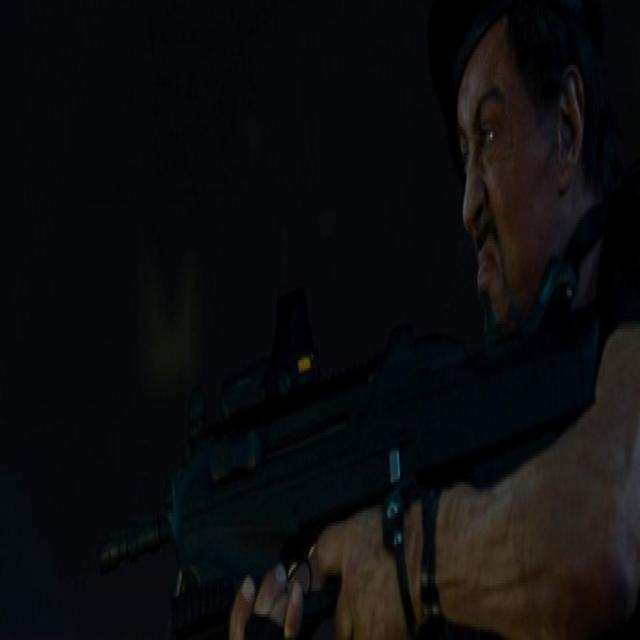rifle: (91, 318, 599, 619)
